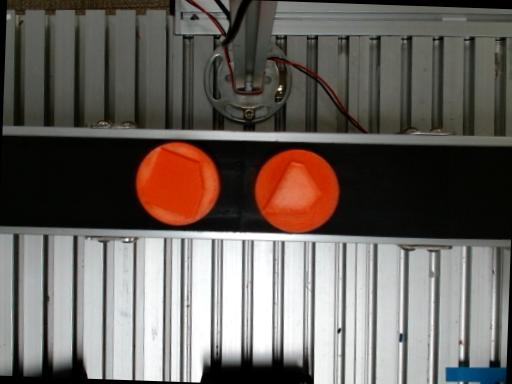Not_Square: (140, 148, 204, 219), (262, 160, 320, 211)
Orange_Waper: (255, 149, 339, 232), (136, 142, 219, 225)
